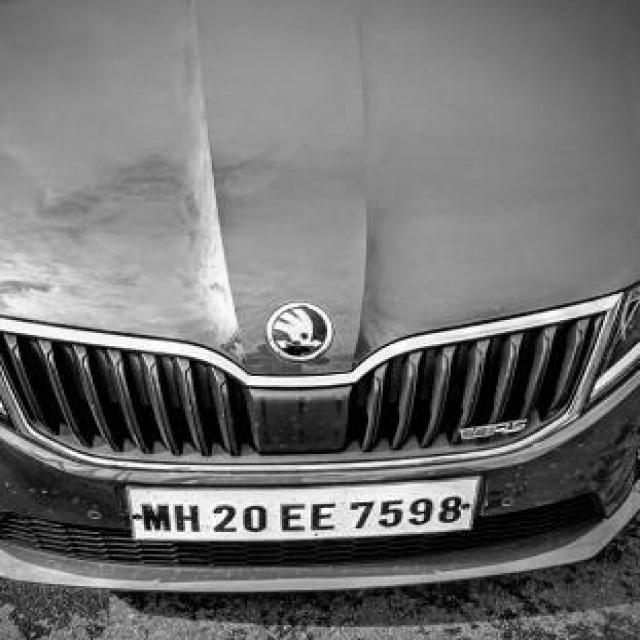license-plate: (116, 478, 480, 553)
